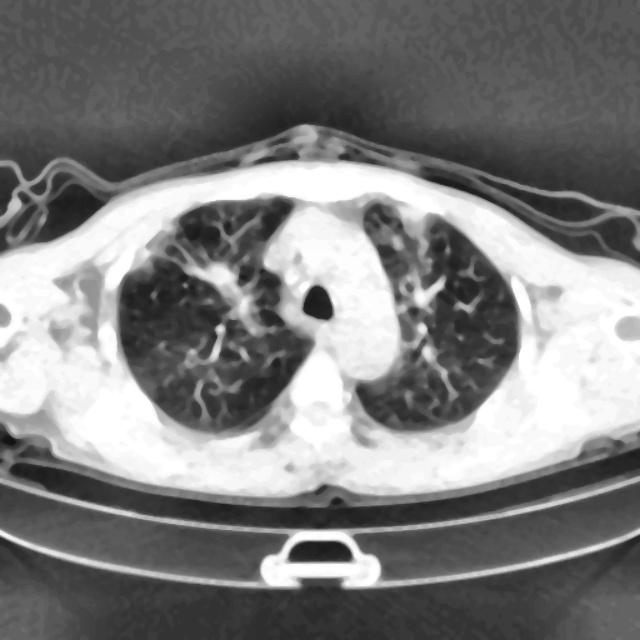covid: (0, 125, 639, 505)
